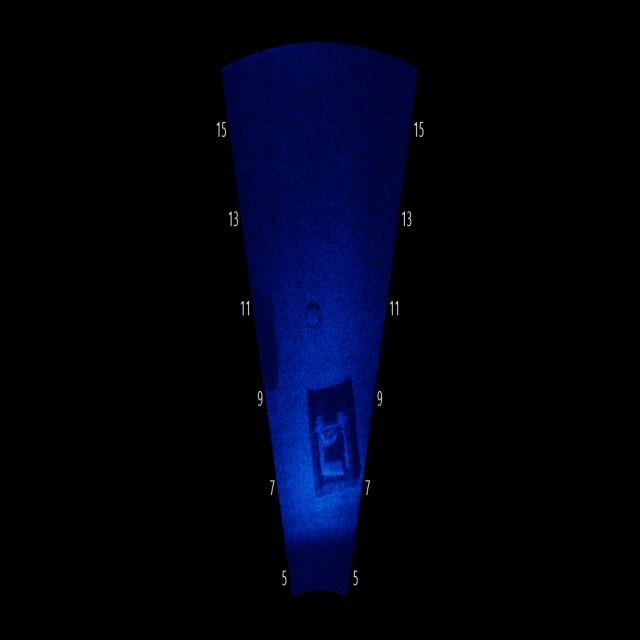square: (300, 374, 366, 506), (248, 279, 284, 395)
